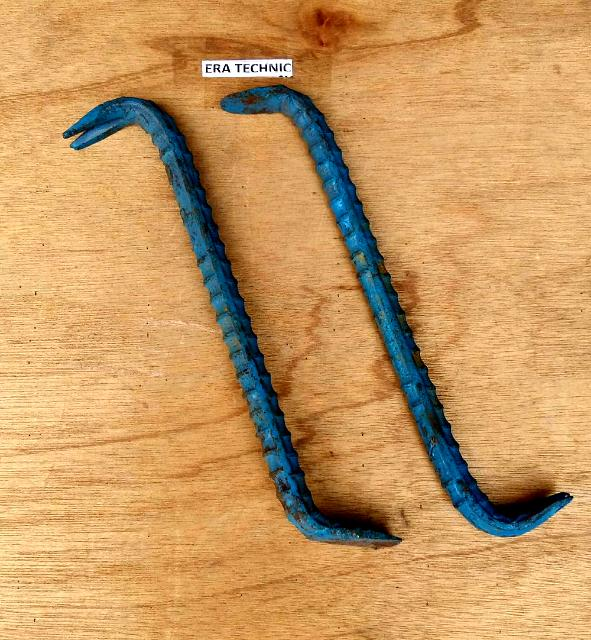crow bar: (225, 72, 591, 546), (52, 84, 402, 564)
